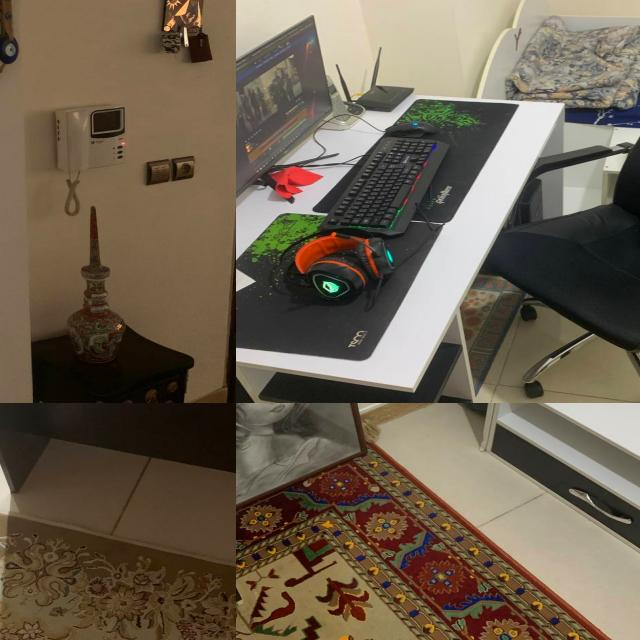Floor: (365, 403, 640, 640), (0, 441, 236, 569), (474, 285, 640, 403)
Wall: (377, 0, 521, 98), (236, 0, 375, 97)
